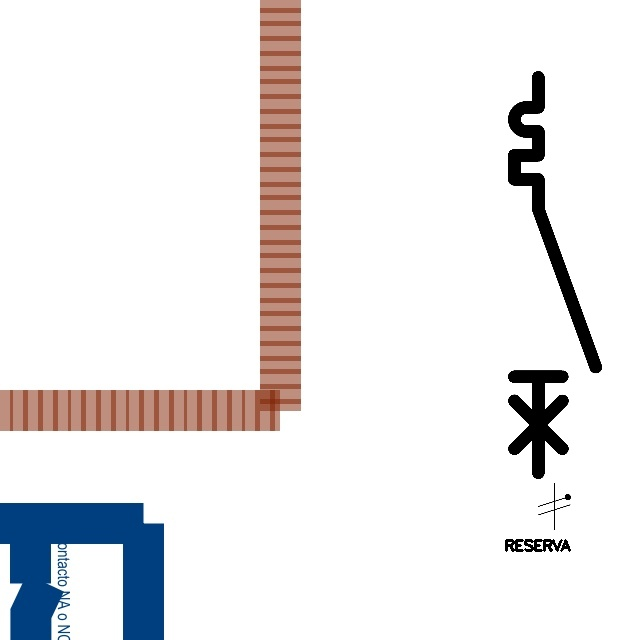interruptor_termomagnetico: (504, 67, 606, 483)
